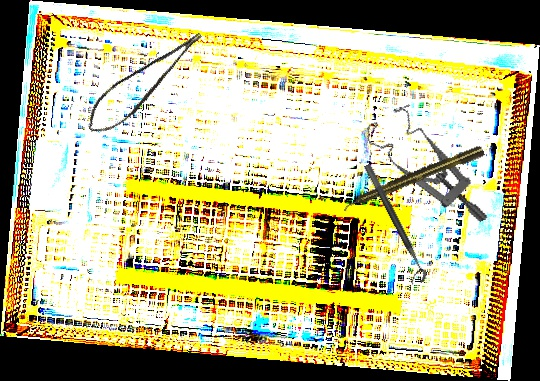Fixation Ring: (354, 162, 430, 288)
Handpiece: (340, 143, 486, 214)
Micro Scissor: (76, 28, 218, 141)
Speculum: (360, 92, 489, 250)
